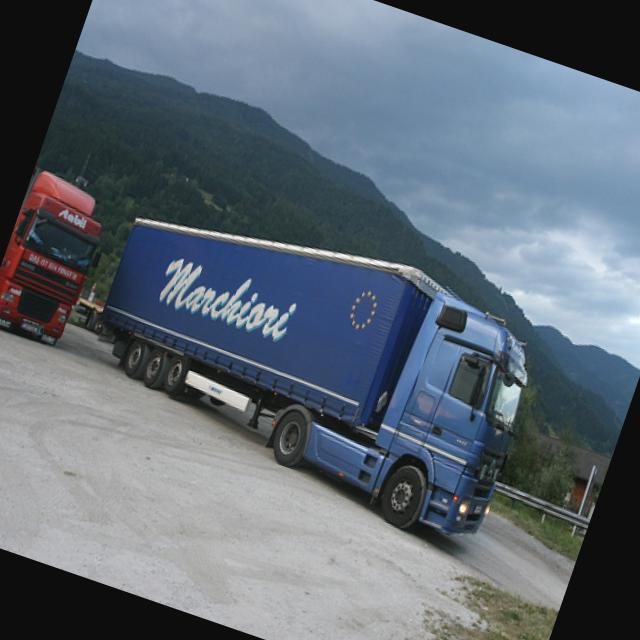Vehicle: (64, 174, 555, 558), (0, 164, 121, 351)
